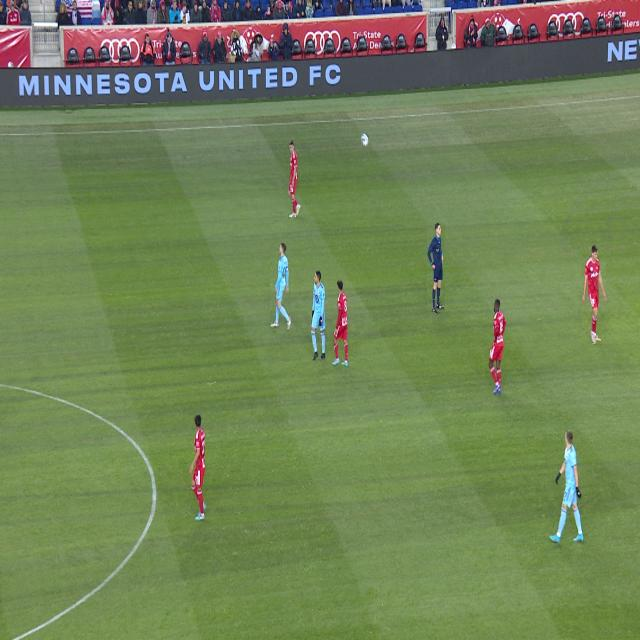football: (361, 133, 369, 147)
player: (550, 430, 584, 542), (583, 246, 606, 343), (488, 299, 507, 395), (189, 414, 206, 521), (271, 243, 291, 331), (331, 280, 348, 367), (311, 268, 326, 358), (288, 140, 301, 218)
referee: (427, 224, 445, 312)
